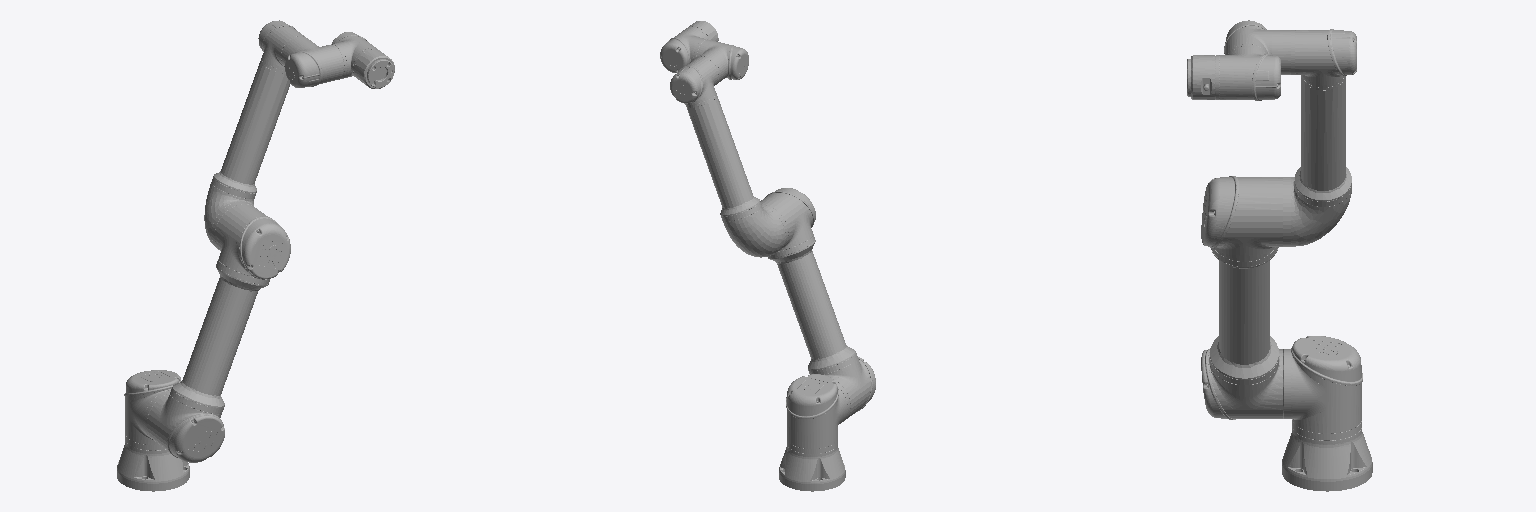
robot.urdf — ur5e_robot:
<?xml version="1.0" ?>
<robot name="ur5e_robot">

    <!-- 创建中间链接用于连接各关节 -->
    <link name="base_link_for_offset"/>
    <link name="pos_x_link"/>
    <link name="pos_y_link"/>
    <link name="pos_z_link"/>
    <link name="rot_x_link"/>
    <link name="rot_y_link"/>
    <!-- X方向平移关节 -->
    <joint name="pos_x_joint" type="prismatic">
      <parent link="base_link_for_offset"/>
      <child link="pos_x_link"/>
      <origin xyz="0 0 0" rpy="0 0 0"/>
      <axis xyz="1 0 0"/>
      <limit lower="-10" upper="10" effort="100" velocity="1"/>
    </joint>
    <!-- Y方向平移关节 -->
    <joint name="pos_y_joint" type="prismatic">
      <parent link="pos_x_link"/>
      <child link="pos_y_link"/>
      <origin xyz="0 0 0" rpy="0 0 0"/>
      <axis xyz="0 1 0"/>
      <limit lower="-10" upper="10" effort="100" velocity="1"/>
    </joint>
    <!-- Z方向平移关节 -->
    <joint name="pos_z_joint" type="prismatic">
      <parent link="pos_y_link"/>
      <child link="pos_z_link"/>
      <origin xyz="0 0 0" rpy="0 0 0"/>
      <axis xyz="0 0 1"/>
      <limit lower="-10" upper="10" effort="100" velocity="1"/>
    </joint>
    <!-- X轴旋转关节 -->
    <joint name="rot_x_joint" type="revolute">
      <parent link="pos_z_link"/>
      <child link="rot_x_link"/>
      <origin xyz="0 0 0" rpy="0 0 0"/>
      <axis xyz="1 0 0"/>
      <limit lower="-6.28" upper="6.28" effort="100" velocity="1"/>
    </joint>
    <!-- Y轴旋转关节 -->
    <joint name="rot_y_joint" type="revolute">
      <parent link="rot_x_link"/>
      <child link="rot_y_link"/>
      <origin xyz="0 0 0" rpy="0 0 0"/>
      <axis xyz="0 1 0"/>
      <limit lower="-6.28" upper="6.28" effort="100" velocity="1"/>
    </joint>
    <!-- Z轴旋转关节 -->
    <joint name="rot_z_joint" type="revolute">
      <parent link="rot_y_link"/>
      <child link="base_link"/>
      <origin xyz="0 0 0" rpy="0 0 0"/>
      <axis xyz="0 0 1"/>
      <limit lower="-6.28" upper="6.28" effort="100" velocity="1"/>
    </joint>


  <link name="base_link"/>
  <link name="base_offset_link"/>
  <link name="base_link_inertia">
    <visual>
      <origin rpy="0 0 3.141592653589793" xyz="0 0 0"/>
      <geometry>
        <mesh filename="meshes/visual/base.dae"/>
      </geometry>
      <material name="LightGrey">
        <color rgba="0.7 0.7 0.7 1.0"/>
      </material>
    </visual>
    <collision>
      <origin rpy="0 0 3.141592653589793" xyz="0 0 0"/>
      <geometry>
        <mesh filename="meshes/collision/base.stl"/>
      </geometry>
    </collision>
    <inertial>
      <mass value="4.0"/>
      <origin rpy="0 0 0" xyz="0 0 0"/>
      <inertia ixx="0.00443333156" ixy="0.0" ixz="0.0" iyy="0.00443333156" iyz="0.0" izz="0.0072"/>
    </inertial>
  </link>
  <link name="shoulder_link">
    <visual>
      <origin rpy="0 0 3.141592653589793" xyz="0 0 0"/>
      <geometry>
        <mesh filename="meshes/visual/shoulder.dae"/>
      </geometry>
      <material name="LightGrey">
        <color rgba="0.7 0.7 0.7 1.0"/>
      </material>
    </visual>
    <collision>
      <origin rpy="0 0 3.141592653589793" xyz="0 0 0"/>
      <geometry>
        <mesh filename="meshes/collision/shoulder.stl"/>
      </geometry>
    </collision>
    <inertial>
      <mass value="3.7"/>
      <origin rpy="0 0 0" xyz="0 0 0"/>
      <inertia ixx="0.010267495893" ixy="0.0" ixz="0.0" iyy="0.010267495893" iyz="0.0" izz="0.00666"/>
    </inertial>
  </link>
  <link name="upper_arm_link">
    <visual>
      <origin rpy="1.5707963267948966 0 -1.5707963267948966" xyz="0 0 0.138"/>
      <geometry>
        <mesh filename="meshes/visual/upperarm.dae"/>
      </geometry>
      <material name="LightGrey">
        <color rgba="0.7 0.7 0.7 1.0"/>
      </material>
    </visual>
    <collision>
      <origin rpy="1.5707963267948966 0 -1.5707963267948966" xyz="0 0 0.138"/>
      <geometry>
        <mesh filename="meshes/collision/upperarm.stl"/>
      </geometry>
    </collision>
    <inertial>
      <mass value="8.393"/>
      <origin rpy="0 1.5707963267948966 0" xyz="-0.2125 0.0 0.138"/>
      <inertia ixx="0.1338857818623325" ixy="0.0" ixz="0.0" iyy="0.1338857818623325" iyz="0.0" izz="0.0151074"/>
    </inertial>
  </link>
  <link name="forearm_link">
    <visual>
      <origin rpy="1.5707963267948966 0 -1.5707963267948966" xyz="0 0 0.007"/>
      <geometry>
        <mesh filename="meshes/visual/forearm.dae"/>
      </geometry>
      <material name="LightGrey">
        <color rgba="0.7 0.7 0.7 1.0"/>
      </material>
    </visual>
    <collision>
      <origin rpy="1.5707963267948966 0 -1.5707963267948966" xyz="0 0 0.007"/>
      <geometry>
        <mesh filename="meshes/collision/forearm.stl"/>
      </geometry>
    </collision>
    <inertial>
      <mass value="2.275"/>
      <origin rpy="0 1.5707963267948966 0" xyz="-0.1961 0.0 0.007"/>
      <inertia ixx="0.031209355099586295" ixy="0.0" ixz="0.0" iyy="0.031209355099586295" iyz="0.0" izz="0.004095"/>
    </inertial>
  </link>
  <link name="wrist_1_link">
    <visual>
      <!-- TODO: Move this to a parameter -->
      <origin rpy="1.5707963267948966 0 0" xyz="0 0 -0.127"/>
      <geometry>
        <mesh filename="meshes/visual/wrist1.dae"/>
      </geometry>
      <material name="LightGrey">
        <color rgba="0.7 0.7 0.7 1.0"/>
      </material>
    </visual>
    <collision>
      <origin rpy="1.5707963267948966 0 0" xyz="0 0 -0.127"/>
      <geometry>
        <mesh filename="meshes/collision/wrist1.stl"/>
      </geometry>
    </collision>
    <inertial>
      <mass value="1.219"/>
      <origin rpy="0 0 0" xyz="0 0 0"/>
      <inertia ixx="0.0025598989760400002" ixy="0.0" ixz="0.0" iyy="0.0025598989760400002" iyz="0.0" izz="0.0021942"/>
    </inertial>
  </link>
  <link name="wrist_2_link">
    <visual>
      <origin rpy="0 0 0" xyz="0 0 -0.0997"/>
      <geometry>
        <mesh filename="meshes/visual/wrist2.dae"/>
      </geometry>
      <material name="LightGrey">
        <color rgba="0.7 0.7 0.7 1.0"/>
      </material>
    </visual>
    <collision>
      <origin rpy="0 0 0" xyz="0 0 -0.0997"/>
      <geometry>
        <mesh filename="meshes/collision/wrist2.stl"/>
      </geometry>
    </collision>
    <inertial>
      <mass value="1.219"/>
      <origin rpy="0 0 0" xyz="0 0 0"/>
      <inertia ixx="0.0025598989760400002" ixy="0.0" ixz="0.0" iyy="0.0025598989760400002" iyz="0.0" izz="0.0021942"/>
    </inertial>
  </link>
  <link name="wrist_3_link">
    <visual>
      <origin rpy="1.5707963267948966 0 0" xyz="0 0 -0.0989"/>
      <geometry>
        <mesh filename="meshes/visual/wrist3.dae"/>
      </geometry>
      <material name="LightGrey">
        <color rgba="0.7 0.7 0.7 1.0"/>
      </material>
    </visual>
    <collision>
      <origin rpy="1.5707963267948966 0 0" xyz="0 0 -0.0989"/>
      <geometry>
        <mesh filename="meshes/collision/wrist3.stl"/>
      </geometry>
    </collision>
    <inertial>
      <mass value="0.1879"/>
      <origin rpy="0 0 0" xyz="0.0 0.0 -0.0229"/>
      <inertia ixx="9.890410052167731e-05" ixy="0.0" ixz="0.0" iyy="9.890410052167731e-05" iyz="0.0" izz="0.0001321171875"/>
    </inertial>
  </link>


  <!-- joints: main serial chain -->
  <joint name="base_offset_joint" type="fixed">
    <parent link="base_link"/>
    <child link="base_offset_link"/>
    <origin rpy="0 0 0" xyz="0 0 0"/>
  </joint>
  <joint name="base_link-base_link_inertia" type="fixed">
    <parent link="base_offset_link"/>
    <child link="base_link_inertia"/>
    <!-- 'base_link' is REP-103 aligned (so X+ forward), while the internal
           frames of the robot/controller have X+ pointing backwards.
           Use the joint between 'base_link' and 'base_link_inertia' (a dummy
           link/frame) to introduce the necessary rotation over Z (of pi rad).
      -->
    <origin rpy="0 0 1.5707963267948966" xyz="0 0 0"/>
  </joint>
  <joint name="shoulder_pan_joint" type="revolute">
    <parent link="base_link_inertia"/>
    <child link="shoulder_link"/>
    <origin rpy="0 0 0" xyz="0 0 0.1625"/>
    <axis xyz="0 0 1"/>
    <limit effort="150.0" lower="-2.356194490192345" upper="-0.7853981633974483" velocity="3.141592653589793"/>
    <dynamics damping="0" friction="0"/>
  </joint>
  <joint name="shoulder_lift_joint" type="revolute">
    <parent link="shoulder_link"/>
    <child link="upper_arm_link"/>
    <origin rpy="1.570796327 0 0" xyz="0 0 0"/>
    <axis xyz="0 0 1"/>
    <limit effort="150.0" lower="-2.552544031041707" upper="-1.3744467859455345" velocity="3.141592653589793"/>
    <dynamics damping="0" friction="0"/>
  </joint>
  <joint name="elbow_joint" type="revolute">
    <parent link="upper_arm_link"/>
    <child link="forearm_link"/>
    <origin rpy="0 0 0" xyz="-0.425 0 0"/>
    <axis xyz="0 0 1"/>
    <limit effort="150.0" lower="-2.945243112740431" upper="0.19634954084936207" velocity="3.141592653589793"/>
    <dynamics damping="0" friction="0"/>
  </joint>
  <joint name="wrist_1_joint" type="revolute">
    <parent link="forearm_link"/>
    <child link="wrist_1_link"/>
    <origin rpy="0 0 0" xyz="-0.3922 0 0.1333"/>
    <axis xyz="0 0 1"/>
    <limit effort="28.0" lower="1.9634954084936207" upper="5.105088062083414" velocity="3.141592653589793"/>
    <dynamics damping="0" friction="0"/>
  </joint>
  <joint name="wrist_2_joint" type="revolute">
    <parent link="wrist_1_link"/>
    <child link="wrist_2_link"/>
    <origin rpy="1.570796327 0 0" xyz="0 -0.0997 -2.044881182297852e-11"/>
    <axis xyz="0 0 1"/>
    <limit effort="28.0" lower="-3.141592653589793" upper="0.0" velocity="3.141592653589793"/>
    <dynamics damping="0" friction="0"/>
  </joint>
  <joint name="wrist_3_joint" type="revolute">
    <parent link="wrist_2_link"/>
    <child link="wrist_3_link"/>
    <origin rpy="1.570796326589793 3.141592653589793 3.141592653589793" xyz="0 0.0996 -2.042830148012698e-11"/>
    <axis xyz="0 0 1"/>
    <limit effort="28.0" lower="-3.141592653589793" upper="3.141592653589793" velocity="3.141592653589793"/>
    <dynamics damping="0" friction="0"/>
  </joint>


  <link name="base"/>

  <joint name="arm_hand_joint" type="fixed">
    <origin xyz="-0.03 0.01 0.123" rpy="0. -1.57079 -1.57079"/>
    <parent link="wrist_3_link"/>
    <child link="base"/>
  </joint>

</robot>

--- Render facts (derived) ---
3 views of the same robot in one strip: view 1: azimuth 30°, elevation 25°; view 2: azimuth 150°, elevation 25°; view 3: azimuth 270°, elevation 25° (orthographic).
Model ur5e_robot with 16 links and 15 joints (9 revolute, 3 prismatic, 3 fixed), rooted at base_link_for_offset, posed joints at zero except 3 at the middle of their limits (shoulder_pan_joint = -1.57, shoulder_lift_joint = -1.96, wrist_1_joint = 3.53).
Links seen in each view (by area): view 1: upper_arm_link, forearm_link, base_link_inertia, wrist_1_link, shoulder_link, wrist_3_link, wrist_2_link; view 2: upper_arm_link, forearm_link, shoulder_link, base_link_inertia, wrist_1_link, wrist_2_link; view 3: upper_arm_link, forearm_link, shoulder_link, base_link_inertia, wrist_2_link, wrist_1_link, wrist_3_link.
Link boxes in pixels (<box>): upper_arm_link: <box>147,202,290,462</box>; forearm_link: <box>204,20,305,246</box>; base_link_inertia: <box>117,434,189,491</box>; wrist_1_link: <box>283,37,346,87</box>; shoulder_link: <box>124,370,180,444</box>; wrist_3_link: <box>355,49,394,88</box>; wrist_2_link: <box>332,32,379,78</box>; upper_arm_link: <box>760,188,875,421</box>; forearm_link: <box>670,56,785,257</box>; shoulder_link: <box>786,374,850,448</box>; base_link_inertia: <box>779,440,845,491</box>; wrist_1_link: <box>693,39,748,82</box>; wrist_2_link: <box>660,27,708,72</box>; upper_arm_link: <box>1201,176,1290,419</box>; forearm_link: <box>1291,29,1356,246</box>; shoulder_link: <box>1283,336,1362,432</box>; base_link_inertia: <box>1282,419,1372,491</box>; wrist_2_link: <box>1215,46,1280,100</box>; wrist_1_link: <box>1224,20,1290,74</box>; wrist_3_link: <box>1187,55,1214,99</box>.
Bounding box of the posed robot: 0.5315 × 0.3084 × 0.9568 m (x, y, z).
Meshes: 7 distinct files referenced, 7 mesh visuals loaded (7 Collada DAE).
